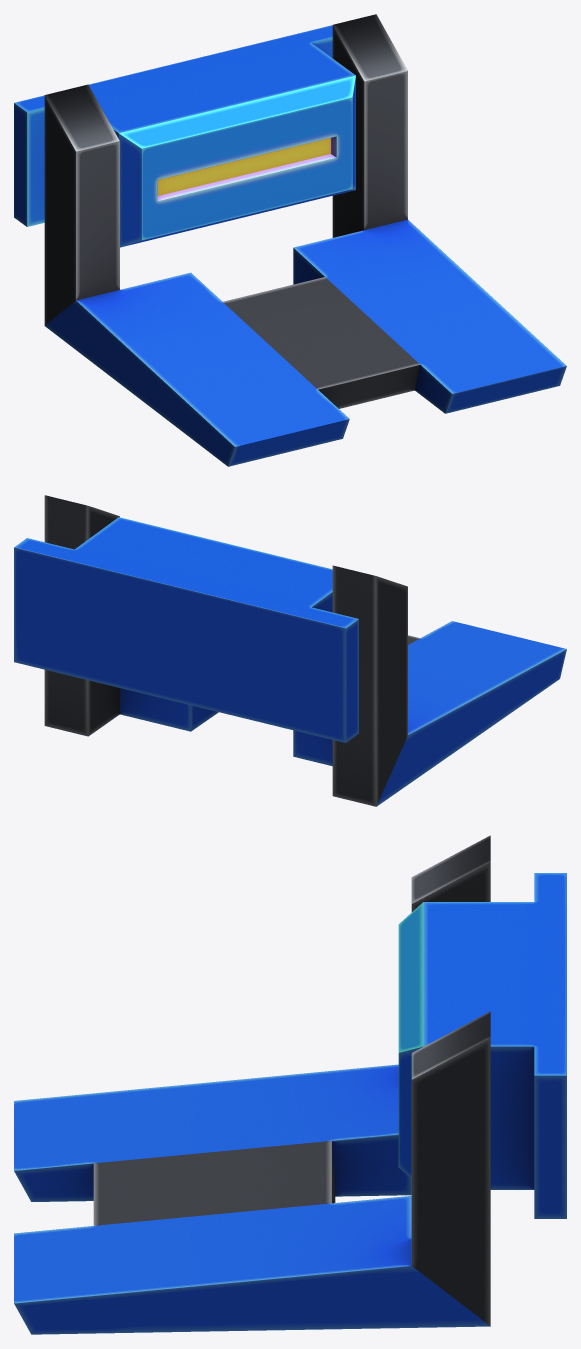
The model's file is front_lifter_arena_2.fbx.
The picture shows the model from 3 angles, top to bottom: view 1: azimuth 30°, elevation 25°; view 2: azimuth 150°, elevation 25°; view 3: azimuth 270°, elevation 25°; orthographic projection. The views are drawn at different scales.
Parts seen in each view (by area): view 1: Cylinder.048, Cube.094; view 2: Cube.094, Cylinder.048; view 3: Cylinder.048, Cube.094.
Part boxes in pixels (left/top/right/bottom): Cylinder.048: left=44, top=14, right=566, bottom=466; Cube.094: left=14, top=25, right=355, bottom=247; Cube.094: left=14, top=517, right=358, bottom=742; Cylinder.048: left=44, top=495, right=566, bottom=806; Cylinder.048: left=14, top=835, right=490, bottom=1334; Cube.094: left=398, top=873, right=566, bottom=1218.
Bounding box in the file's own units: 146 × 100 × 169.
